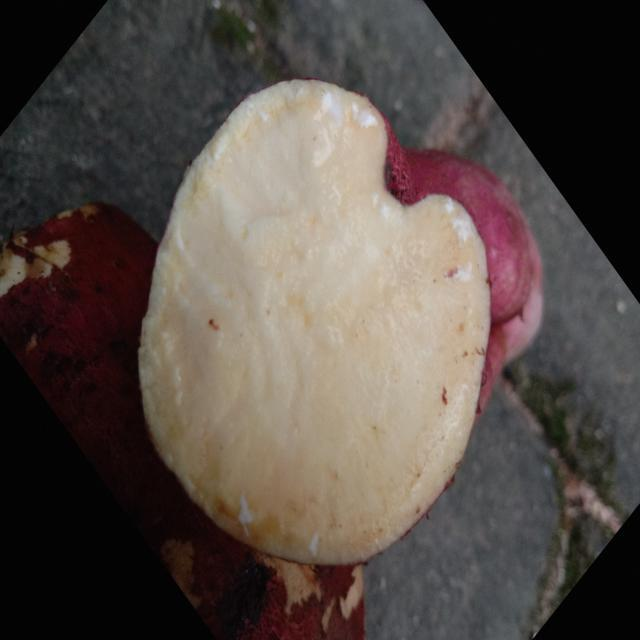Healthy Sweet Potato: (139, 80, 490, 565)
